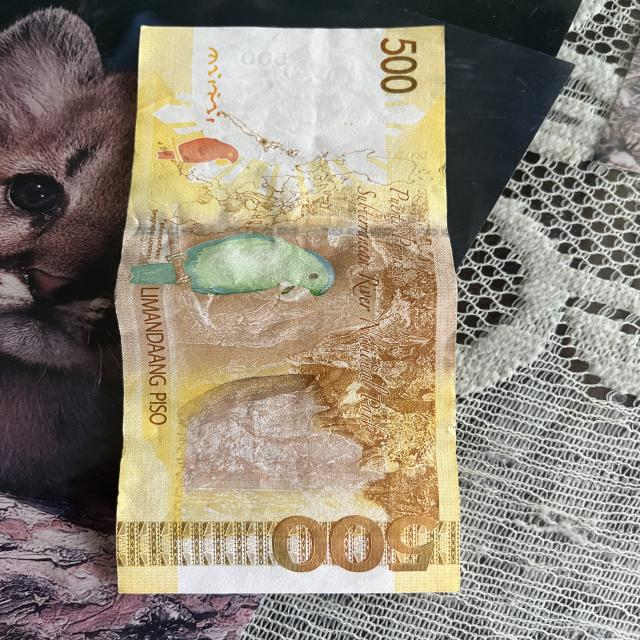security_thread: (122, 222, 450, 240)
see_through_mark: (202, 43, 227, 123)
value: (260, 507, 444, 581)
value_watermark: (238, 48, 290, 66)
watermark: (226, 43, 376, 145)
